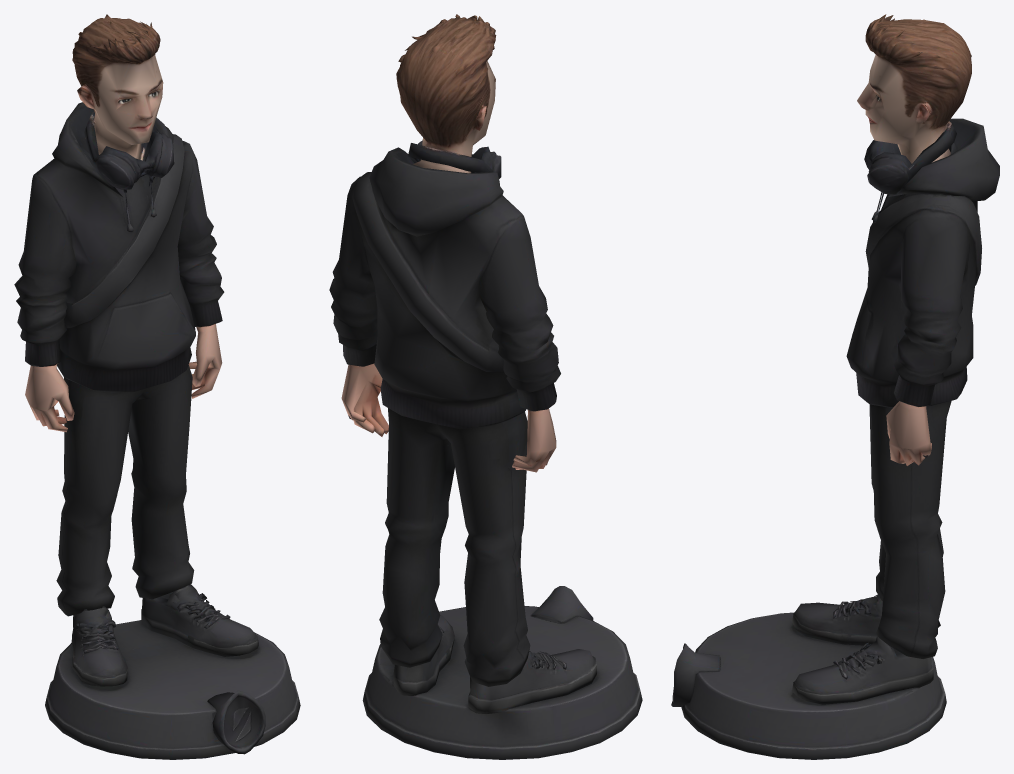
File: selected.glb
3 renders of one model, left to right at view 1: azimuth 30°, elevation 25°; view 2: azimuth 150°, elevation 25°; view 3: azimuth 270°, elevation 25°, orthographic. The views are drawn at different scales.
Parts seen in each view (by area): view 1: tripo_node_719a1010-f7b9-45c7-9979-b695d3198f0a; view 2: tripo_node_719a1010-f7b9-45c7-9979-b695d3198f0a; view 3: tripo_node_719a1010-f7b9-45c7-9979-b695d3198f0a.
Boxes of the visible parts, x1,y1,x2,y2 form: tripo_node_719a1010-f7b9-45c7-9979-b695d3198f0a: [14, 14, 300, 759]; tripo_node_719a1010-f7b9-45c7-9979-b695d3198f0a: [329, 14, 642, 759]; tripo_node_719a1010-f7b9-45c7-9979-b695d3198f0a: [671, 14, 999, 759].
Bounding box in the file's own units: 0.3535 × 0.998 × 0.4355.
1 material, 1 textured.
